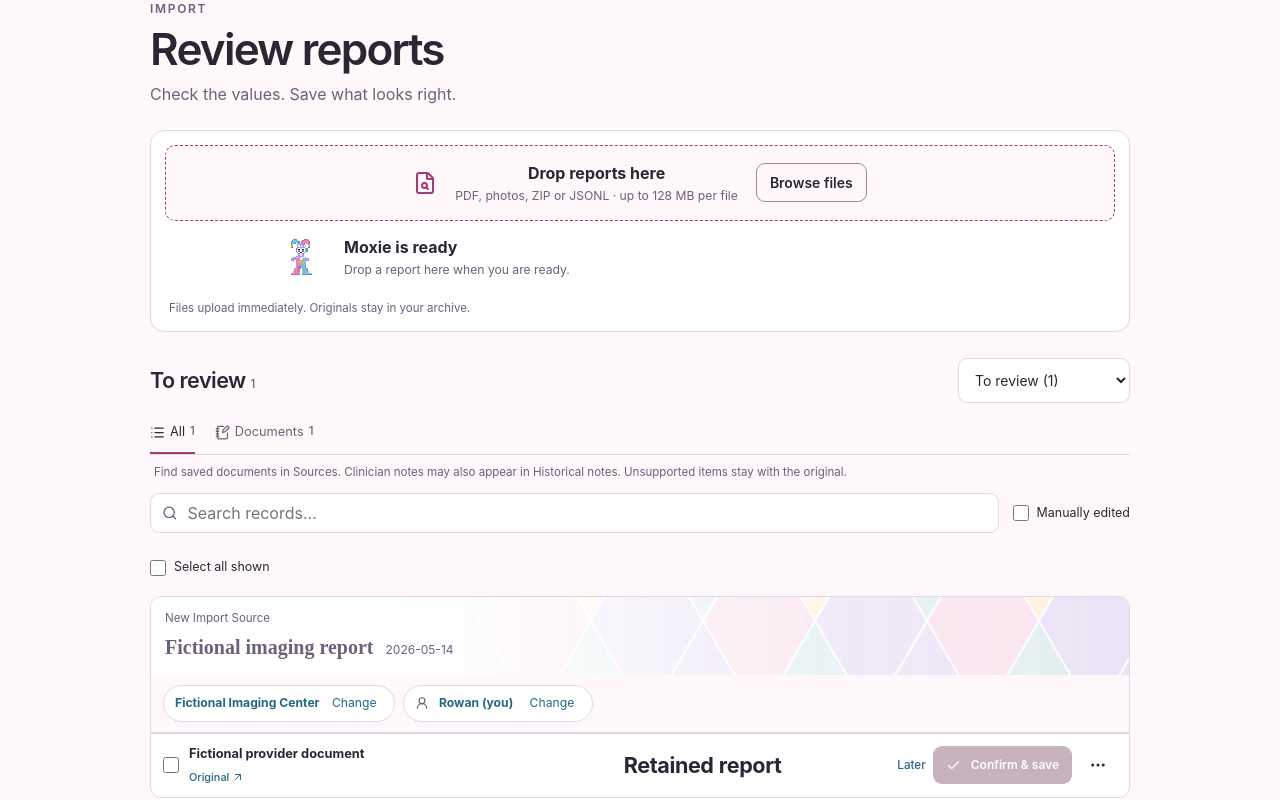
it: presents the default source as one editable pill without an unapplied warning
This screenshot has width=1280, height=800.
Click the button with aria-label "Change source: Fictional Imaging Center" at (279, 703), box [163, 685, 395, 722]
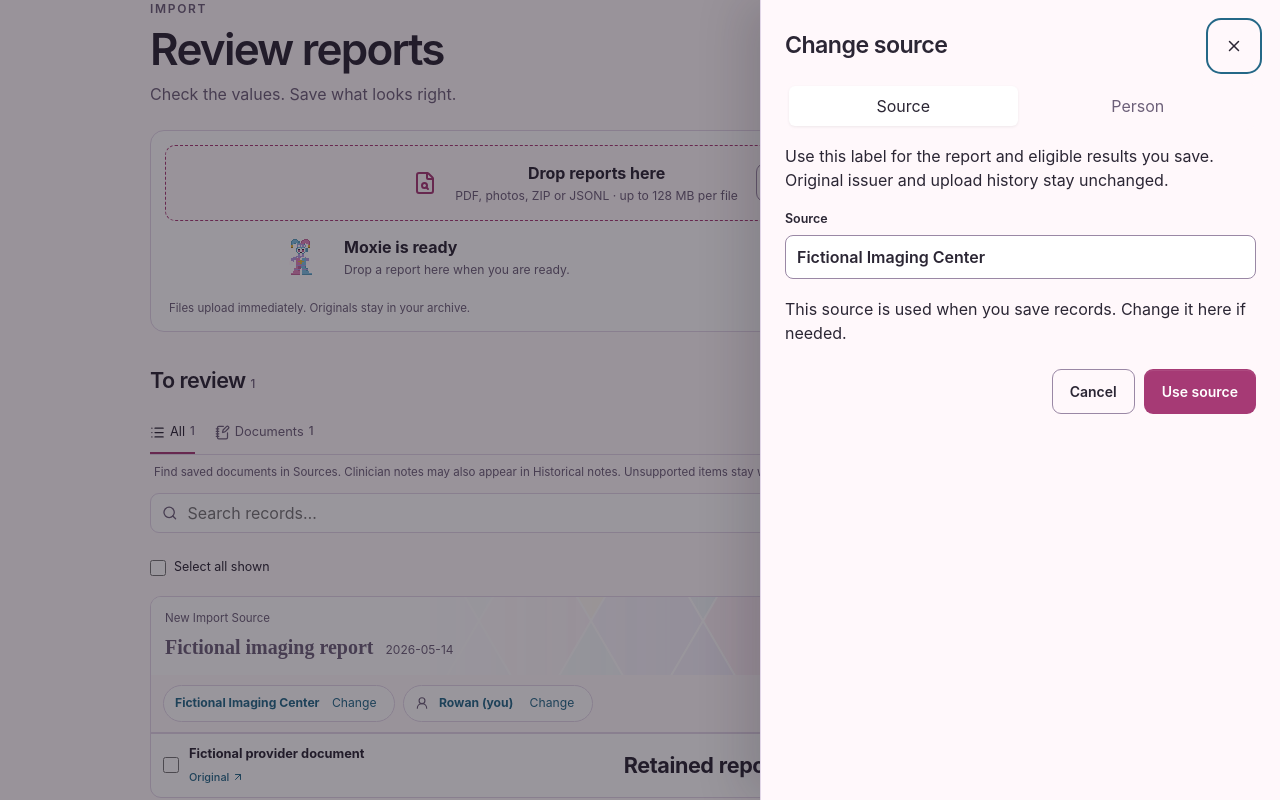
Expected: the dialog is shown, [760, 0, 1279, 799]
Expected: the text "Use this label for the report and eligible results you save" is shown, [785, 146, 1214, 190]
Click the button "Use source" at (1200, 391), box [1144, 369, 1256, 414]
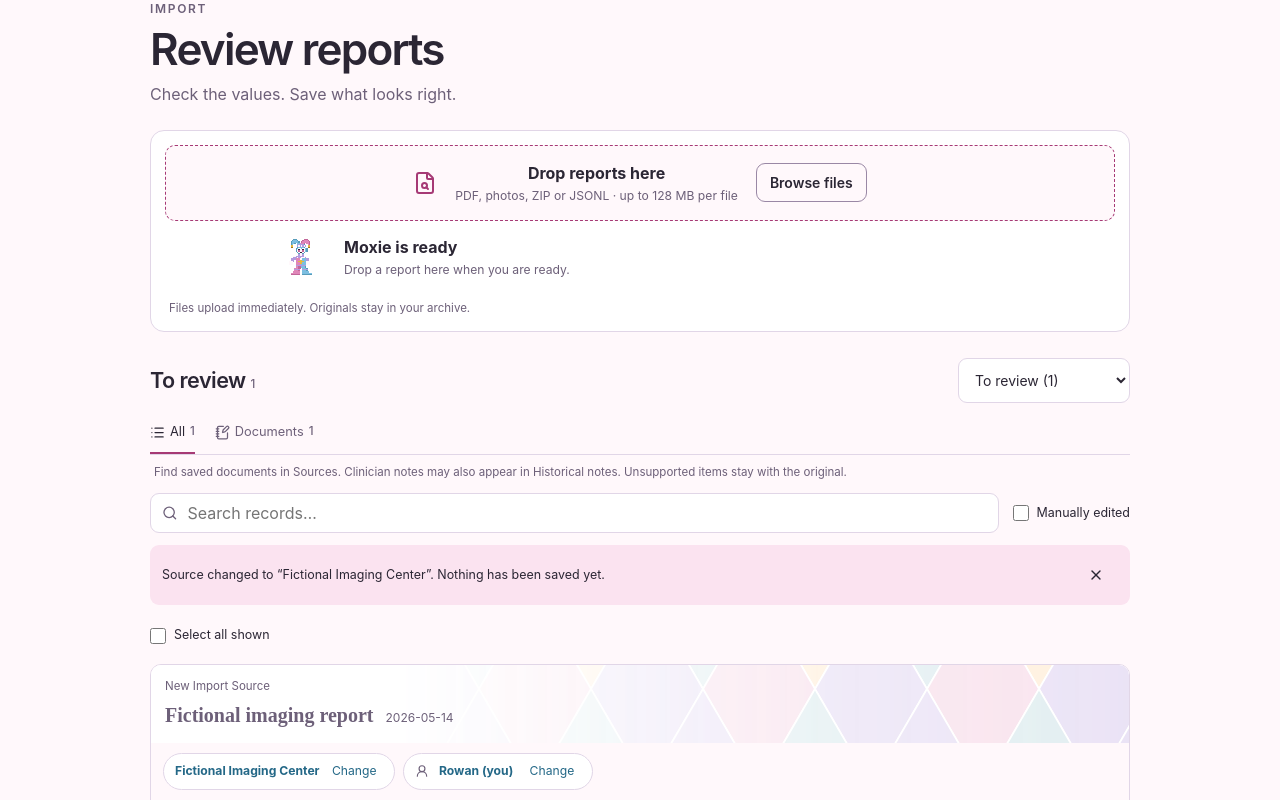
Expected: the dialog is gone
Expected: the text "Source changed to “Fictional Imaging Center”. Nothing has been saved yet." is shown, [162, 566, 605, 585]
